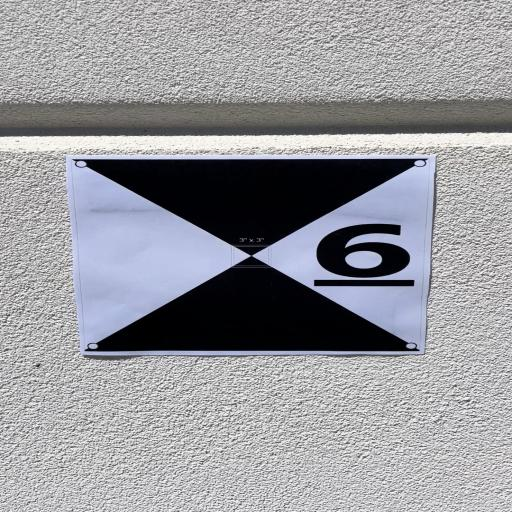target6: (65, 154, 435, 356)
